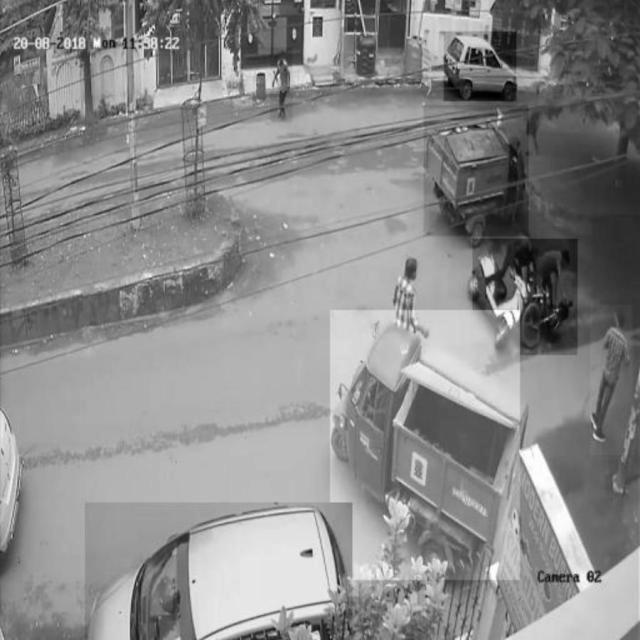accident: (473, 239, 577, 355)
person: (591, 305, 633, 455), (271, 48, 293, 122)
vehicle: (330, 311, 520, 581), (85, 503, 353, 640), (424, 105, 528, 236), (444, 31, 516, 101)
